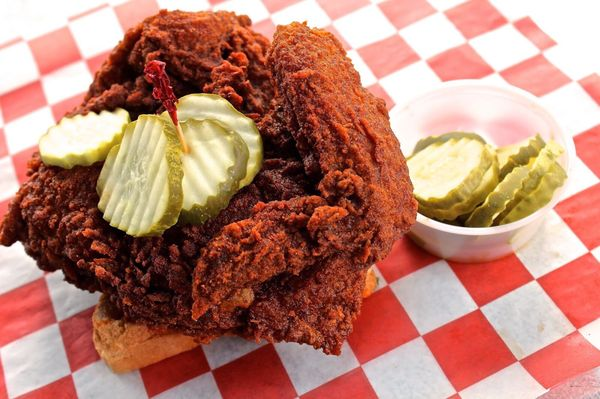sushi: (393, 81, 571, 263)
